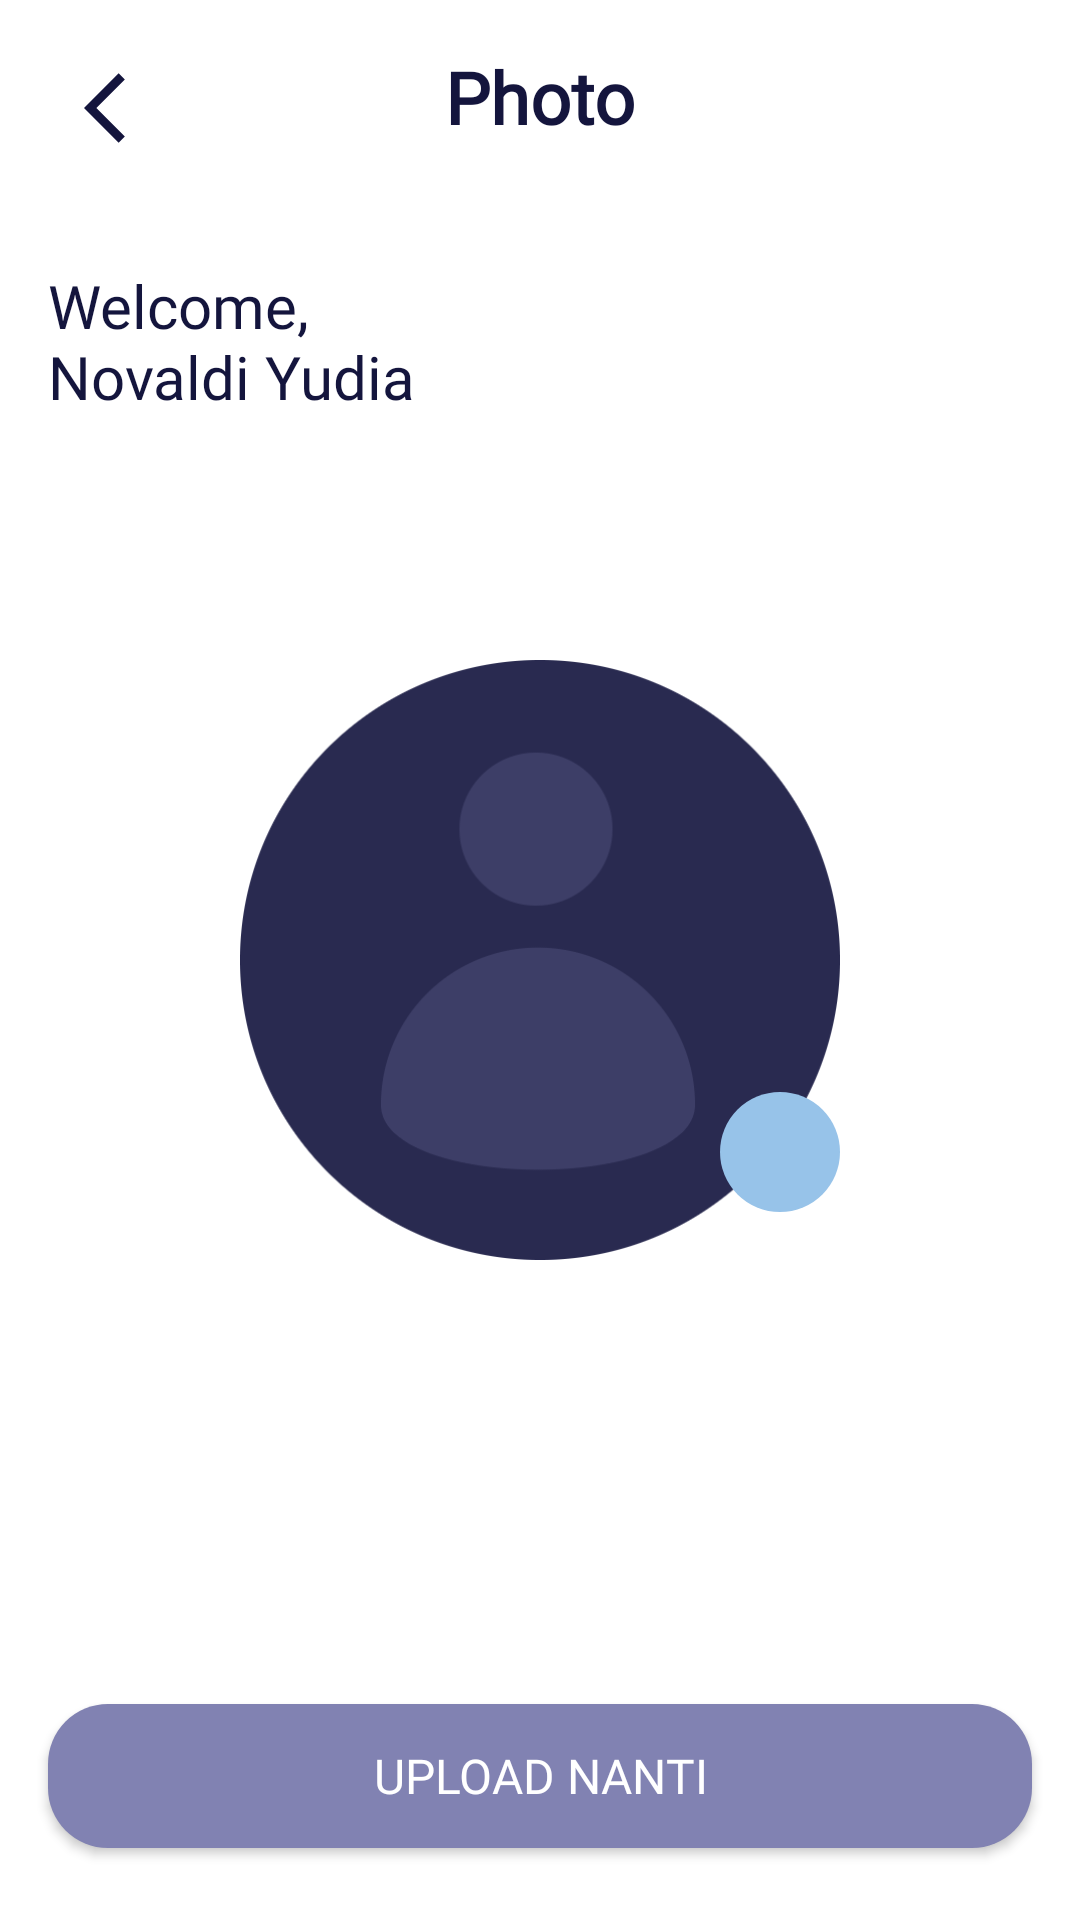

Icon click points for this 1080*1920 phone screenshot, format [x,y]:
arrow back: [104,108]
